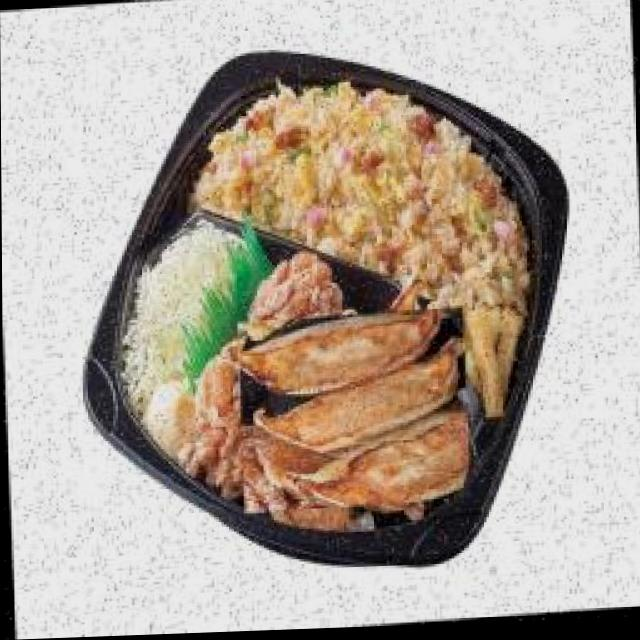fried_dumplings: (245, 302, 461, 523)
